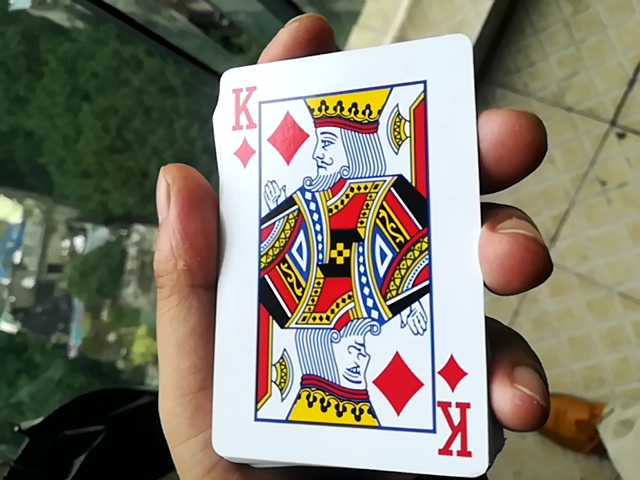fk k: (206, 23, 481, 474)
